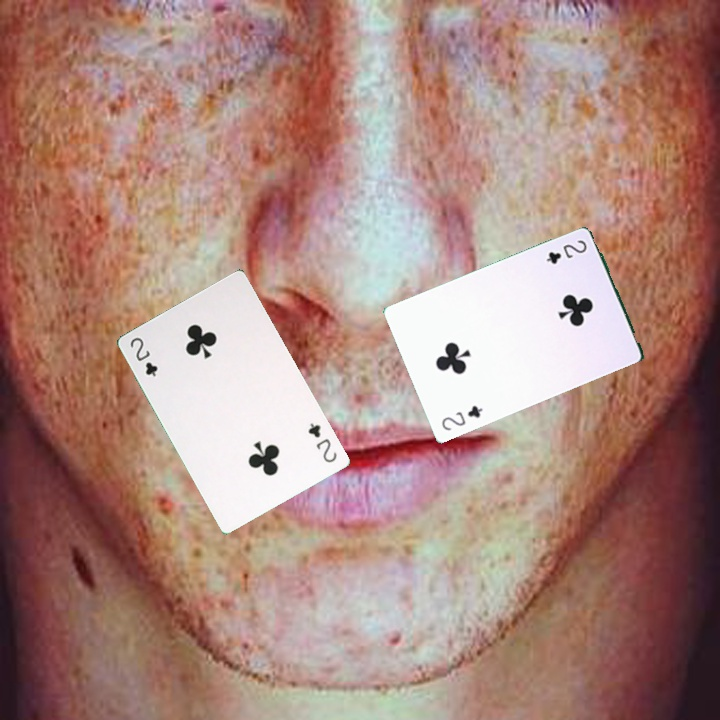2c: (304, 419, 340, 465), (126, 333, 160, 379), (437, 401, 485, 433), (542, 236, 589, 267)
